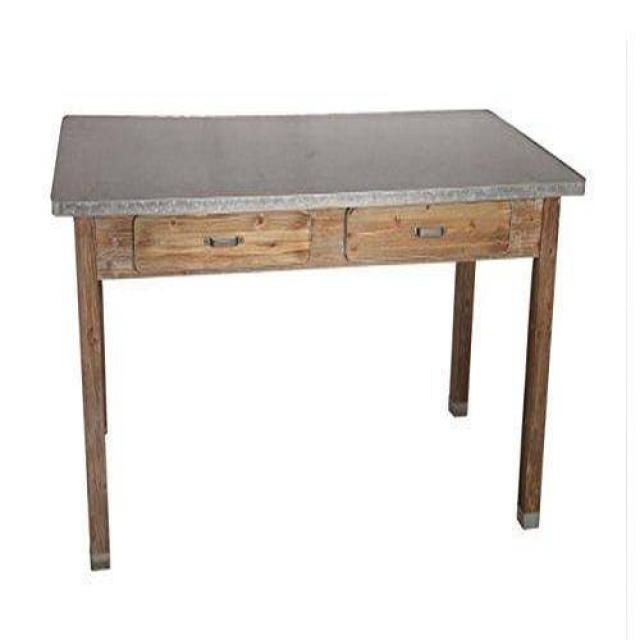table: (50, 109, 588, 575)
